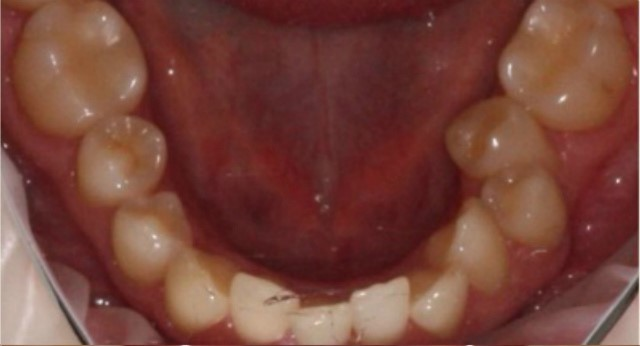LL1BC_healthy: (483, 162, 570, 247)
LL1M_healthy: (501, 2, 631, 121)
LL2BC_healthy: (451, 106, 551, 173)
LLCI_healthy: (350, 277, 412, 344)
LLC_healthy: (439, 203, 505, 288)
LLLI_healthy: (409, 270, 468, 333)
LR1BC_healthy: (117, 203, 182, 281)
LR1M_healthy: (27, 8, 145, 117)
LR2BC_healthy: (83, 118, 166, 201)
LRCI_healthy: (295, 301, 350, 346)
LRC_healthy: (170, 252, 228, 329)
LRLI_decay: (229, 275, 296, 339)
